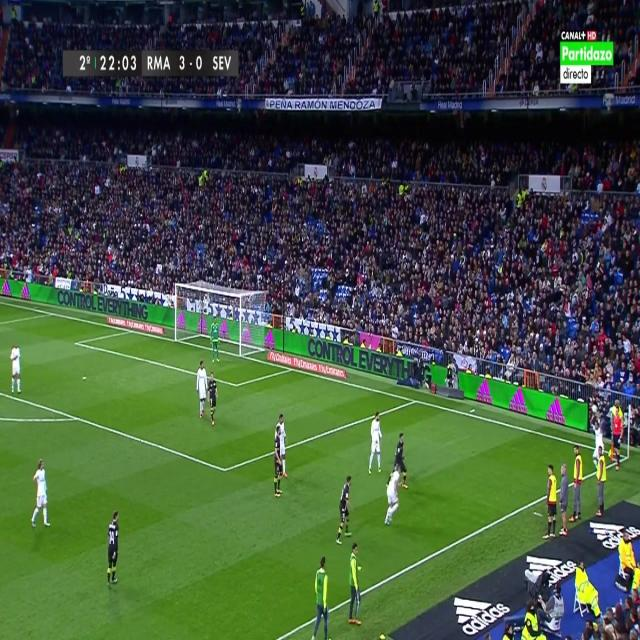Ball: (591, 401, 599, 417)
Goalkeeper: (208, 315, 221, 364)
Player: (30, 456, 51, 533), (382, 462, 403, 530), (334, 475, 353, 546), (105, 510, 121, 587), (392, 431, 412, 492), (368, 410, 384, 479), (278, 412, 292, 481), (272, 425, 283, 503), (195, 361, 209, 421), (591, 417, 605, 470), (10, 340, 22, 396), (208, 370, 219, 426)
Referee: (610, 408, 625, 471)
